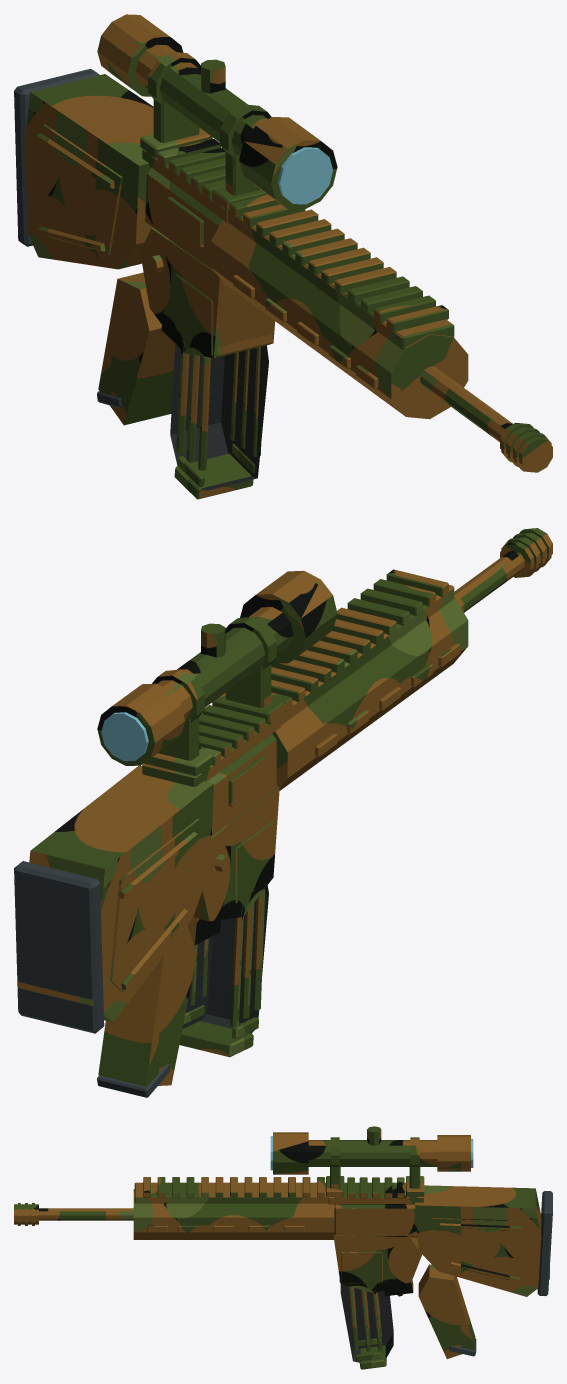
The model's file is AR15_RuralCamo.glb.
3 views of the same model, one above another, from view 1: azimuth 30°, elevation 25°; view 2: azimuth 150°, elevation 25°; view 3: azimuth 270°, elevation 25° (orthographic). The views are drawn at different scales.
Parts seen in each view (by area): view 1: FTF_Weapon_AR15_RuralCamo_Mesh; view 2: FTF_Weapon_AR15_RuralCamo_Mesh; view 3: FTF_Weapon_AR15_RuralCamo_Mesh.
Boxes of the visible parts, x1,y1,x2,y2 form: FTF_Weapon_AR15_RuralCamo_Mesh: [14, 14, 552, 499]; FTF_Weapon_AR15_RuralCamo_Mesh: [14, 528, 552, 1097]; FTF_Weapon_AR15_RuralCamo_Mesh: [14, 1126, 552, 1369].
Size of the model in its own units: 0.1581 by 0.7246 by 1.52.
4 materials, 1 textured.
